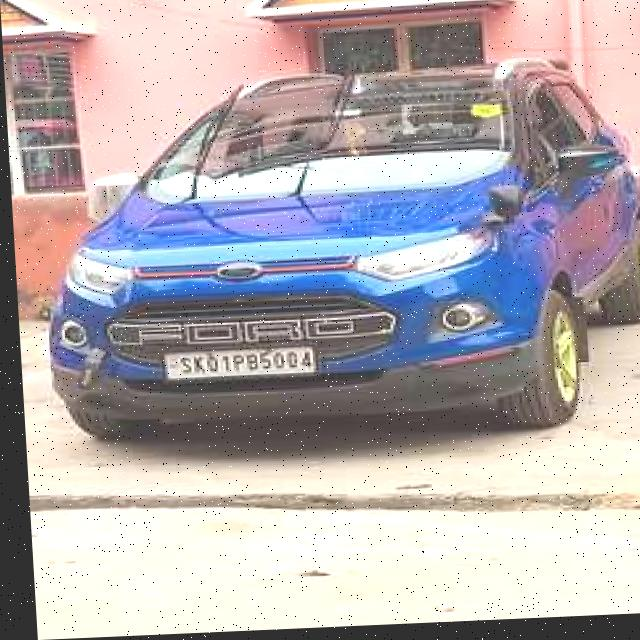plate: (151, 345, 317, 388)
